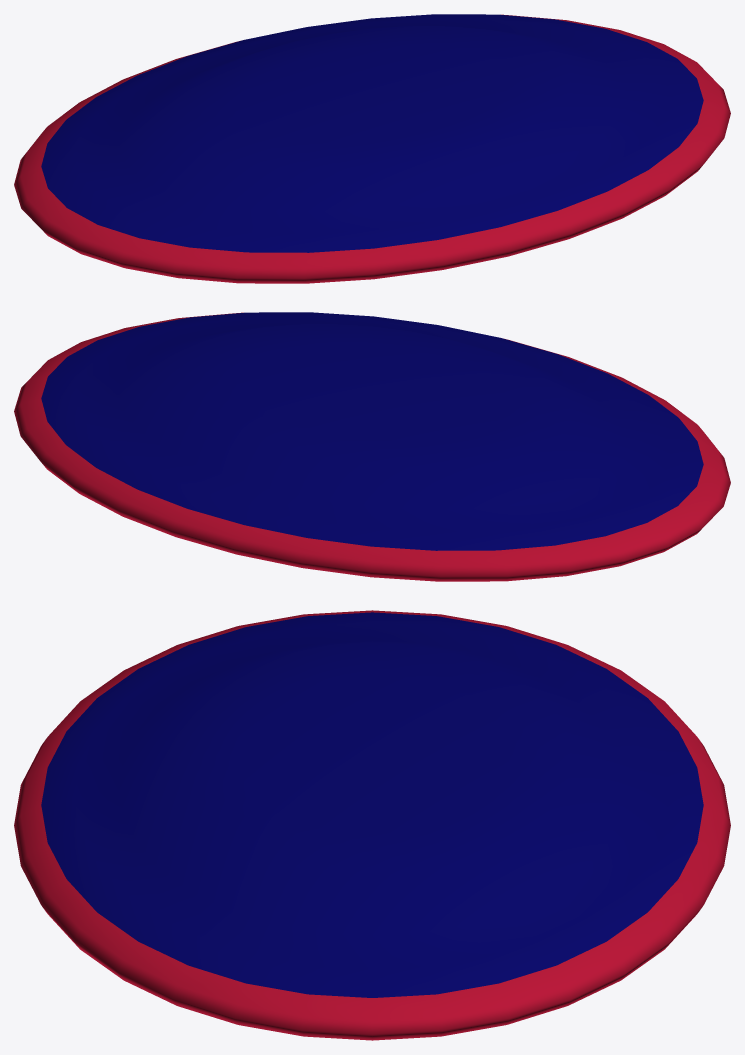
3 views of the same model, one above another, from view 1: azimuth 30°, elevation 25°; view 2: azimuth 150°, elevation 25°; view 3: azimuth 270°, elevation 25° (orthographic). The views are drawn at different scales.
Visible parts, largest first — view 1: mirror_shield; view 2: mirror_shield; view 3: mirror_shield.
Part boxes in pixels (bbox=[...]): mirror_shield: bbox=[14, 14, 730, 283]; mirror_shield: bbox=[14, 312, 730, 581]; mirror_shield: bbox=[14, 610, 730, 1040].
Bounding box in the file's own units: 0.2819 × 0.027 × 0.2046.
Materials: 2 (2 with a texture image).
